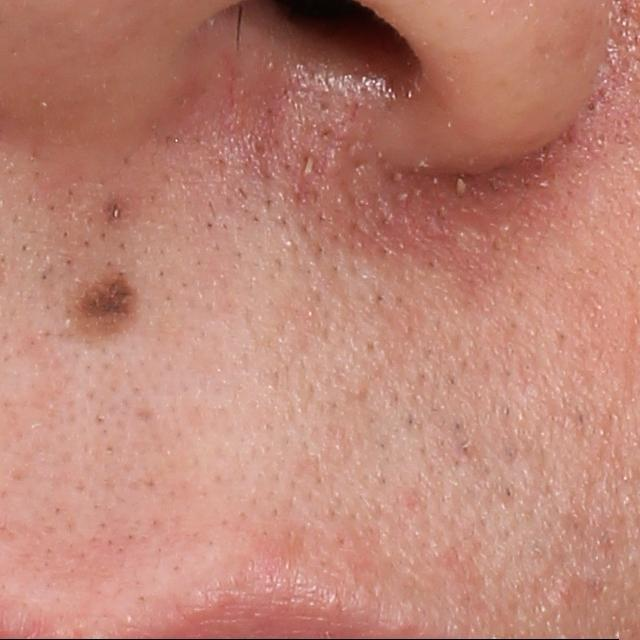nevus: (71, 269, 143, 334), (100, 187, 141, 228)
